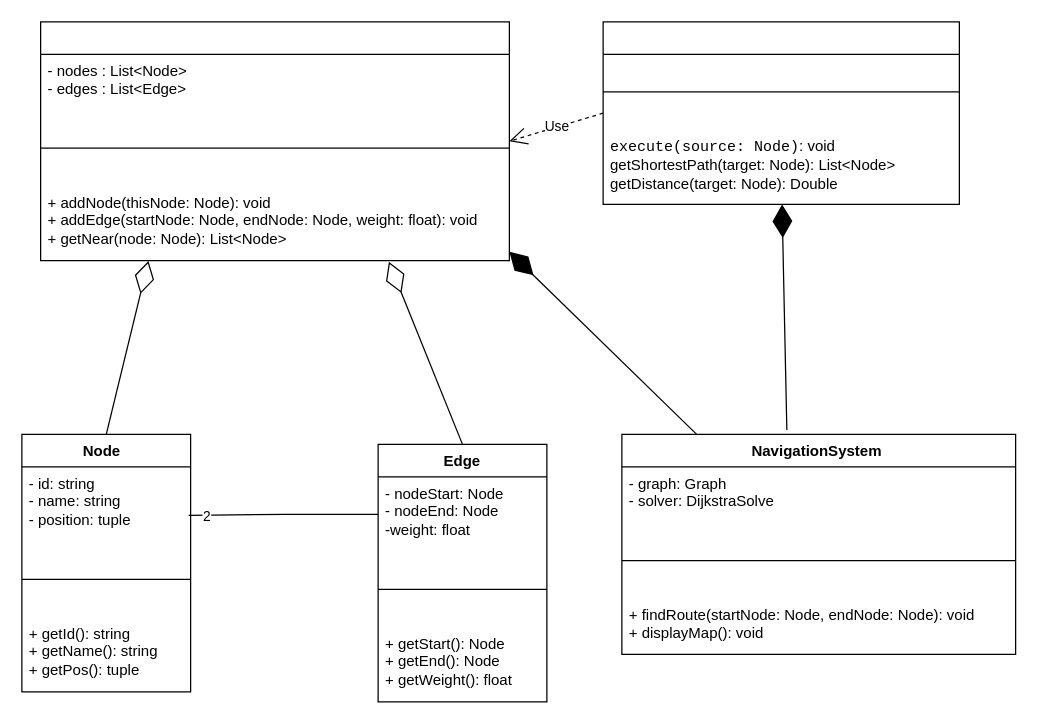
The diagram is 1038 pixels wide and 728 high, and some of its shapes have lost their labels. The box of each missing label's shape, as (x1, y1, x2, y2) in pixels:
DIjkstraSolve: (602, 21, 959, 204)
Graph: (39, 21, 509, 261)
